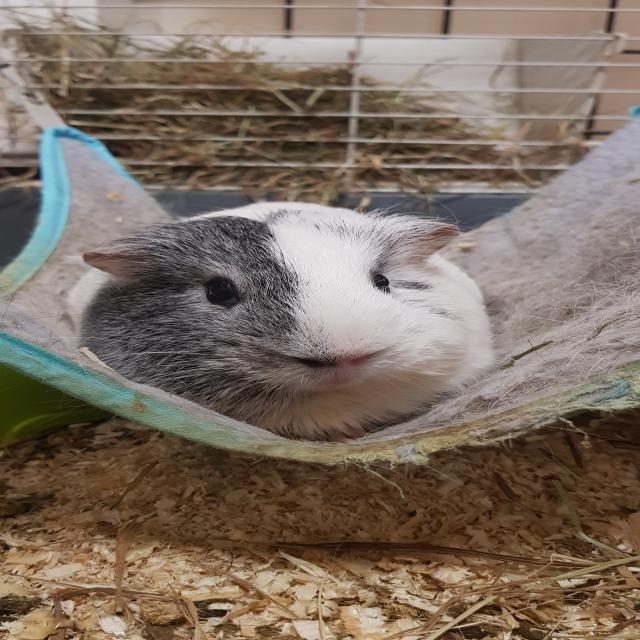guinea pig: (51, 196, 506, 447)
